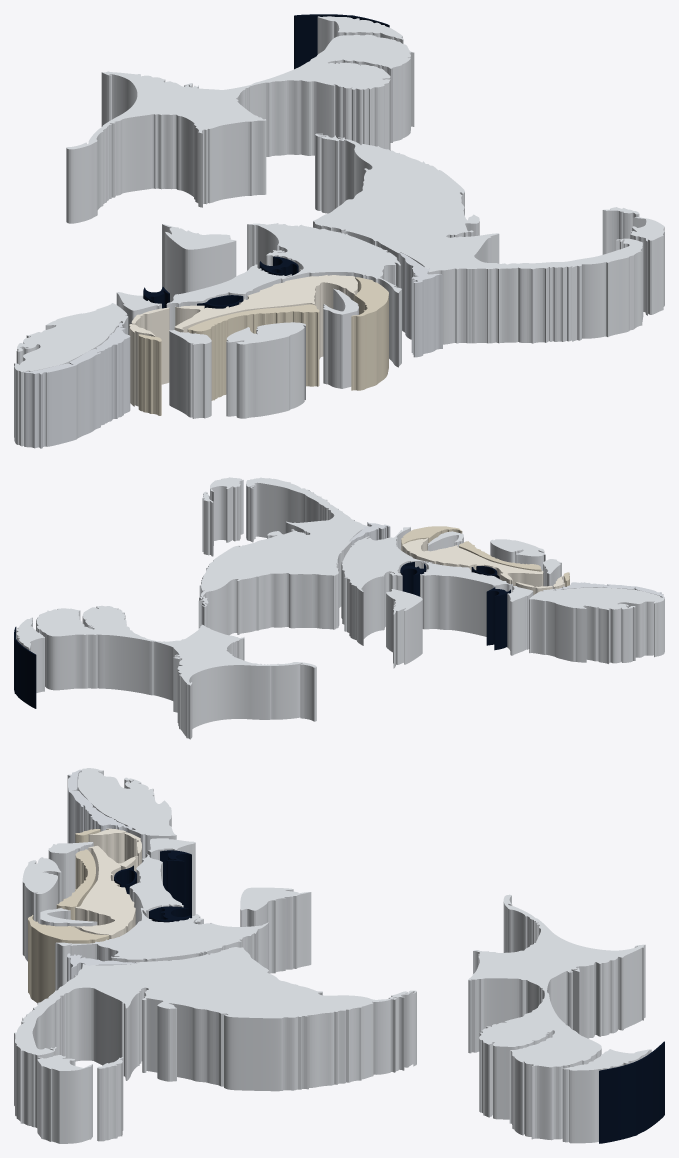
3 views of the same model, one above another, from view 1: azimuth 30°, elevation 25°; view 2: azimuth 150°, elevation 25°; view 3: azimuth 270°, elevation 25° (orthographic). The views are drawn at different scales.
Visible parts, largest first — view 1: imagetostl_mesh2, imagetostl_mesh0, imagetostl_mesh1, imagetostl_mesh3, imagetostl_mesh44, imagetostl_mesh8, imagetostl_mesh5, imagetostl_mesh7, imagetostl_mesh4, imagetostl_mesh40, imagetostl_mesh10, imagetostl_mesh20 (+19 smaller); view 2: imagetostl_mesh2, imagetostl_mesh0, imagetostl_mesh6, imagetostl_mesh1, imagetostl_mesh4, imagetostl_mesh3, imagetostl_mesh5, imagetostl_mesh7, imagetostl_mesh10, imagetostl_mesh14, imagetostl_mesh33, imagetostl_mesh16 (+13 smaller); view 3: imagetostl_mesh0, imagetostl_mesh2, imagetostl_mesh1, imagetostl_mesh3, imagetostl_mesh5, imagetostl_mesh30, imagetostl_mesh14, imagetostl_mesh7, imagetostl_mesh10, imagetostl_mesh4, imagetostl_mesh12, imagetostl_mesh33 (+14 smaller).
Boxes of the visible parts, x1,y1,x2,y2 form: imagetostl_mesh2: (66,36,414,223); imagetostl_mesh0: (313,134,643,344); imagetostl_mesh1: (313,133,642,272); imagetostl_mesh3: (66,34,413,149); imagetostl_mesh44: (24,324,130,448); imagetostl_mesh8: (226,325,305,418); imagetostl_mesh5: (166,223,401,304); imagetostl_mesh7: (14,303,127,371); imagetostl_mesh4: (166,223,401,367); imagetostl_mesh40: (187,311,319,400); imagetostl_mesh10: (162,224,236,302); imagetostl_mesh20: (169,331,211,418); imagetostl_mesh2: (36,606,316,739); imagetostl_mesh0: (198,482,368,635); imagetostl_mesh6: (529,589,664,663); imagetostl_mesh1: (199,477,368,606); imagetostl_mesh4: (341,527,512,645); imagetostl_mesh3: (36,605,316,685); imagetostl_mesh5: (342,526,512,591); imagetostl_mesh7: (529,587,664,609); imagetostl_mesh10: (386,590,422,668); imagetostl_mesh14: (210,479,243,545); imagetostl_mesh33: (402,538,543,580); imagetostl_mesh16: (507,586,533,655); imagetostl_mesh0: (14,948,416,1127); imagetostl_mesh2: (468,896,645,1140); imagetostl_mesh1: (14,947,416,1055); imagetostl_mesh3: (468,894,644,1067); imagetostl_mesh5: (56,854,268,959); imagetostl_mesh30: (599,1042,664,1143); imagetostl_mesh14: (37,1057,92,1143); imagetostl_mesh7: (78,768,175,835); imagetostl_mesh10: (240,889,311,973); imagetostl_mesh4: (55,854,268,990); imagetostl_mesh12: (562,1050,651,1143); imagetostl_mesh33: (75,845,137,935).
Size of the model in its own units: 89.19 by 10 by 80.97.
